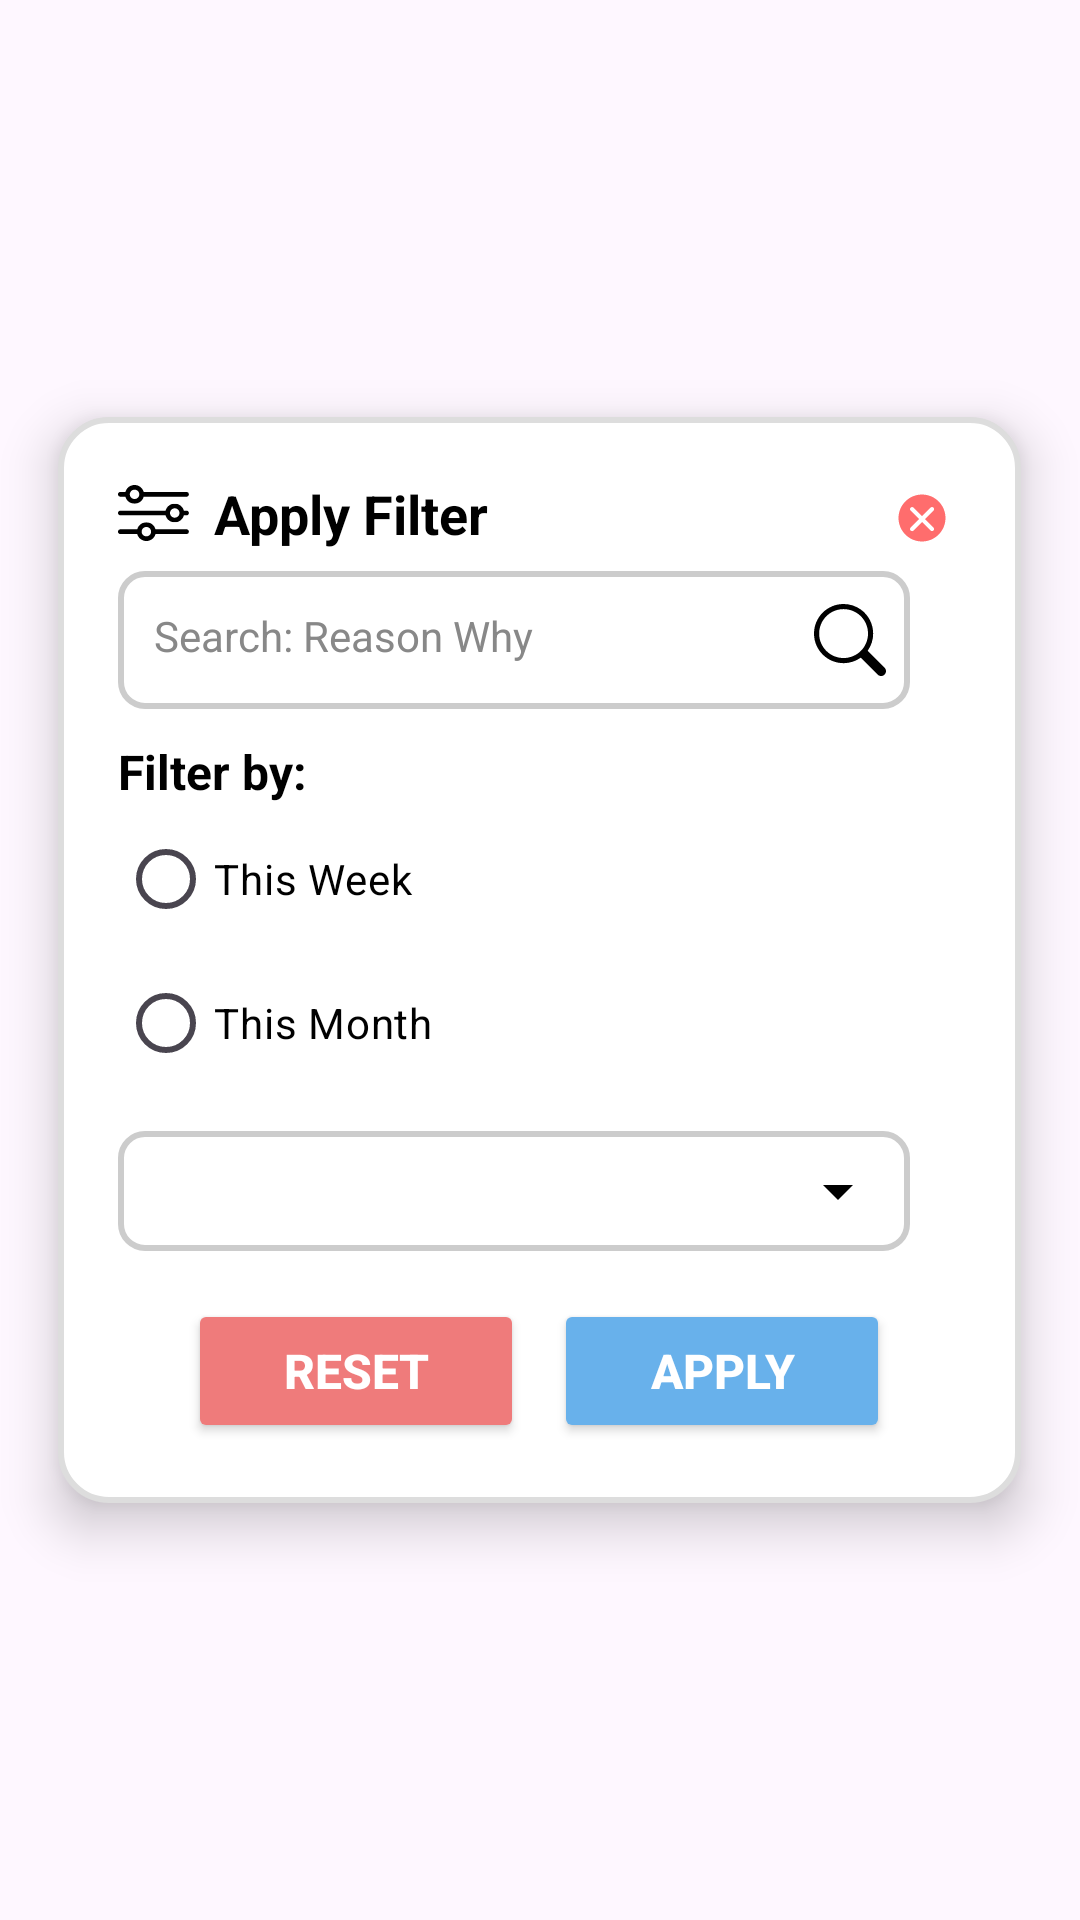

Where icons sit on this 1080px x 1920px app screen, as (x1, y1, x2, y2):
close: (898, 494, 946, 542)
dropdown: (823, 1185, 853, 1200)
